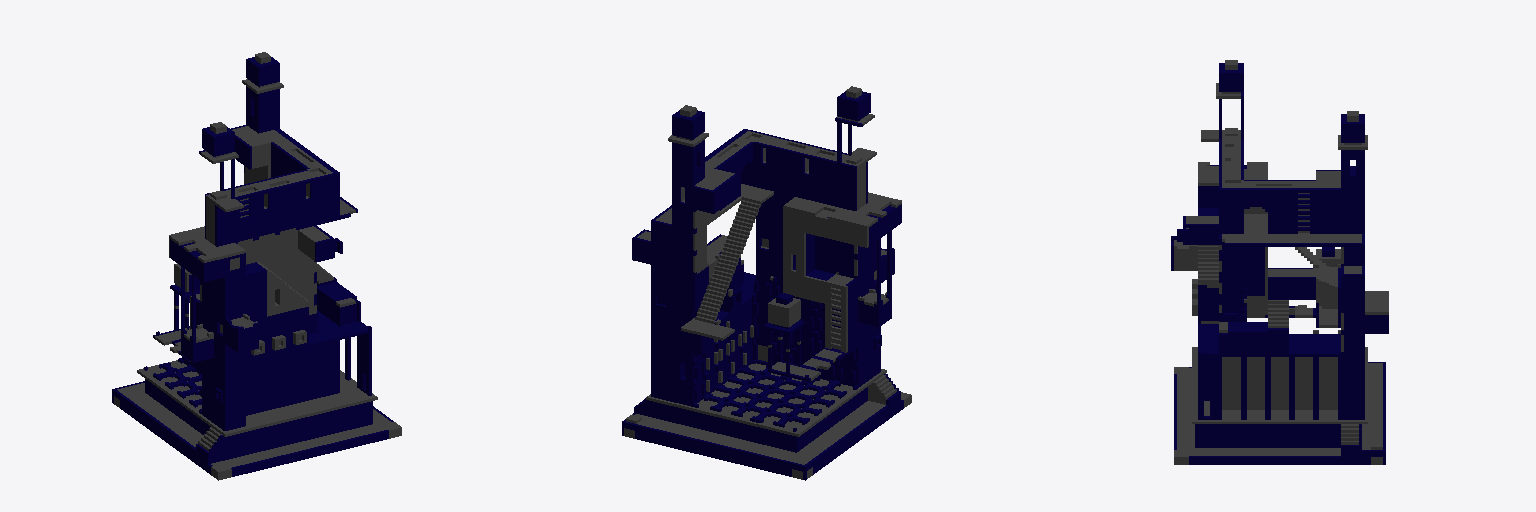
The picture shows the model from 3 angles: view 1: azimuth 30°, elevation 25°; view 2: azimuth 150°, elevation 25°; view 3: azimuth 270°, elevation 25°; orthographic projection.
Parts seen in each view (by area): view 1: object 1; view 2: object 1; view 3: object 1.
Part boxes in pixels (left/top/right/bottom): object 1: left=112, top=52, right=401, bottom=480; object 1: left=622, top=86, right=911, bottom=480; object 1: left=1171, top=60, right=1388, bottom=464.
Bounding box in the file's own units: 7.1 × 11.9 × 7.2.
Materials: 1 (1 with a texture image).